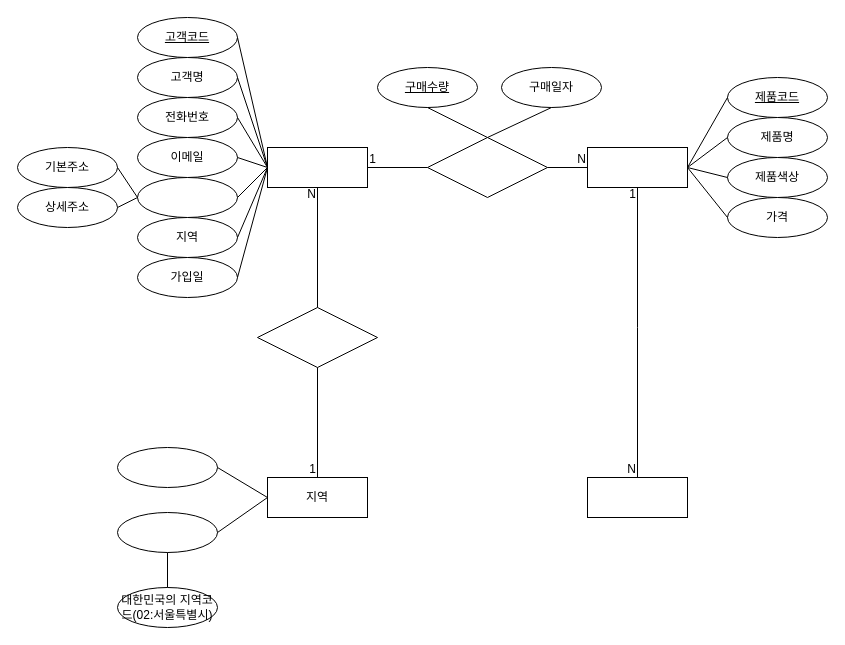
Image size: 845x645. Some labels were removed from this diagram. The box of each missing label's shape, as (x1, y1, x2, y2) in pixels:
고객: (266, 146, 368, 188)
관리: (256, 306, 378, 368)
구매: (426, 136, 548, 198)
색상: (586, 476, 688, 518)
제품: (586, 146, 688, 188)
주소: (136, 176, 238, 218)
지역명: (116, 512, 218, 552)
지역코드: (116, 446, 218, 488)
